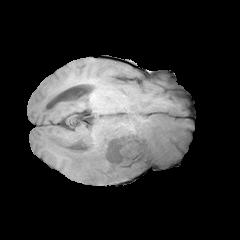glioma: (52, 112, 184, 184)
